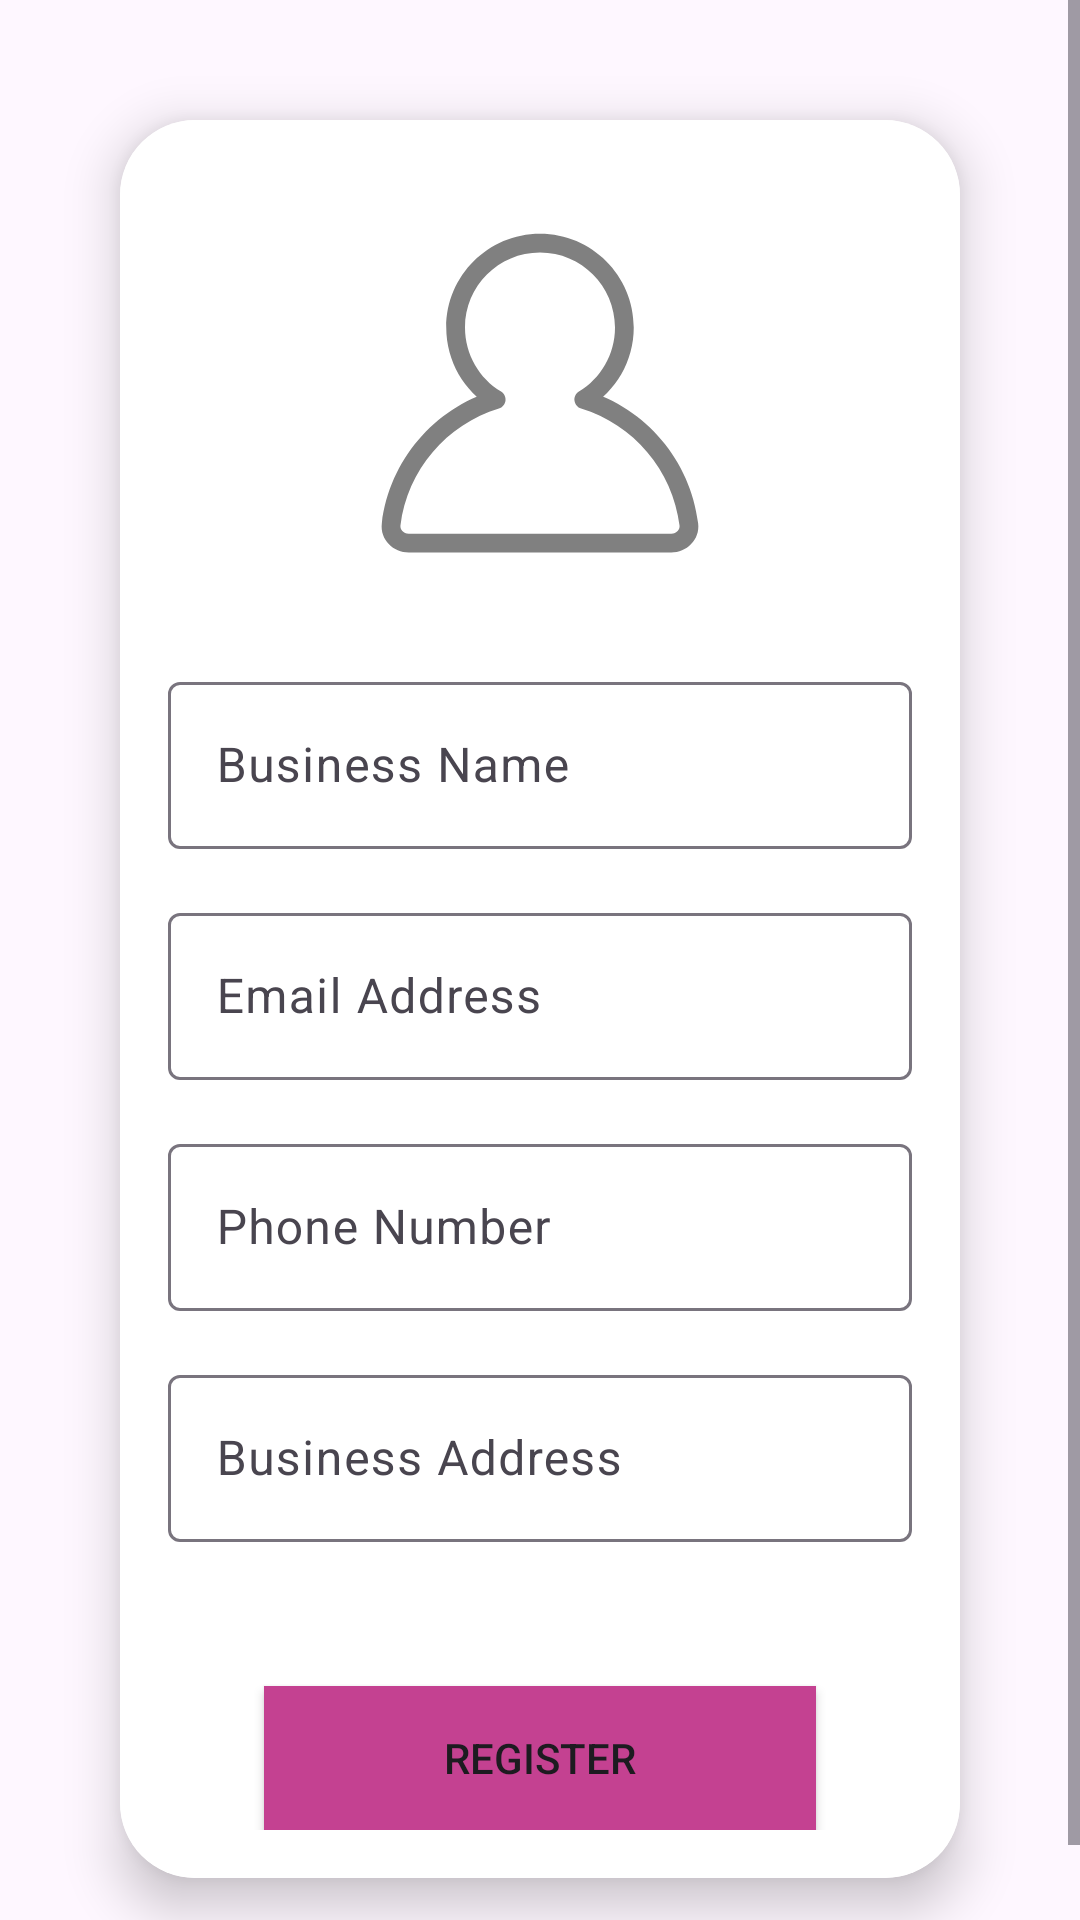

Icon click points for this 1080 × 1920 phone screenshot, format point (x, y):
profile: point (540, 393)
